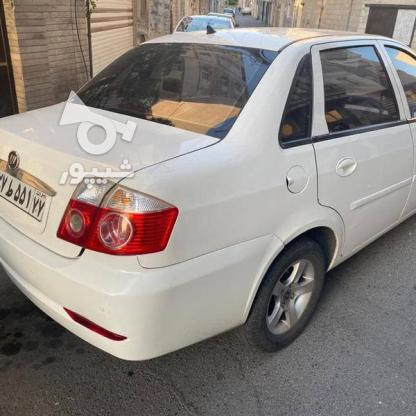car: (1, 172, 45, 223)
